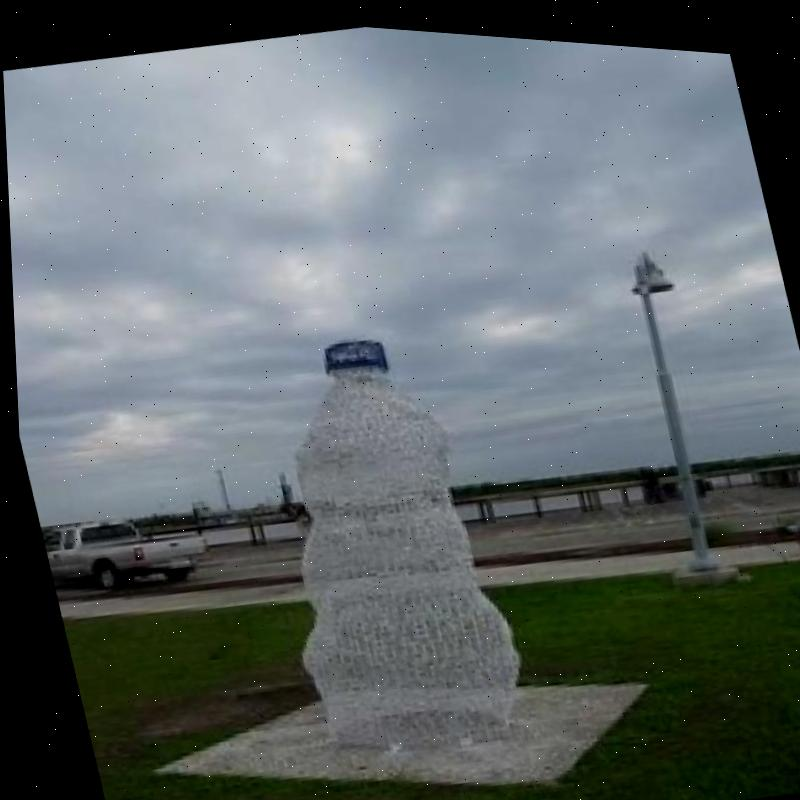botella: (227, 311, 532, 772)
